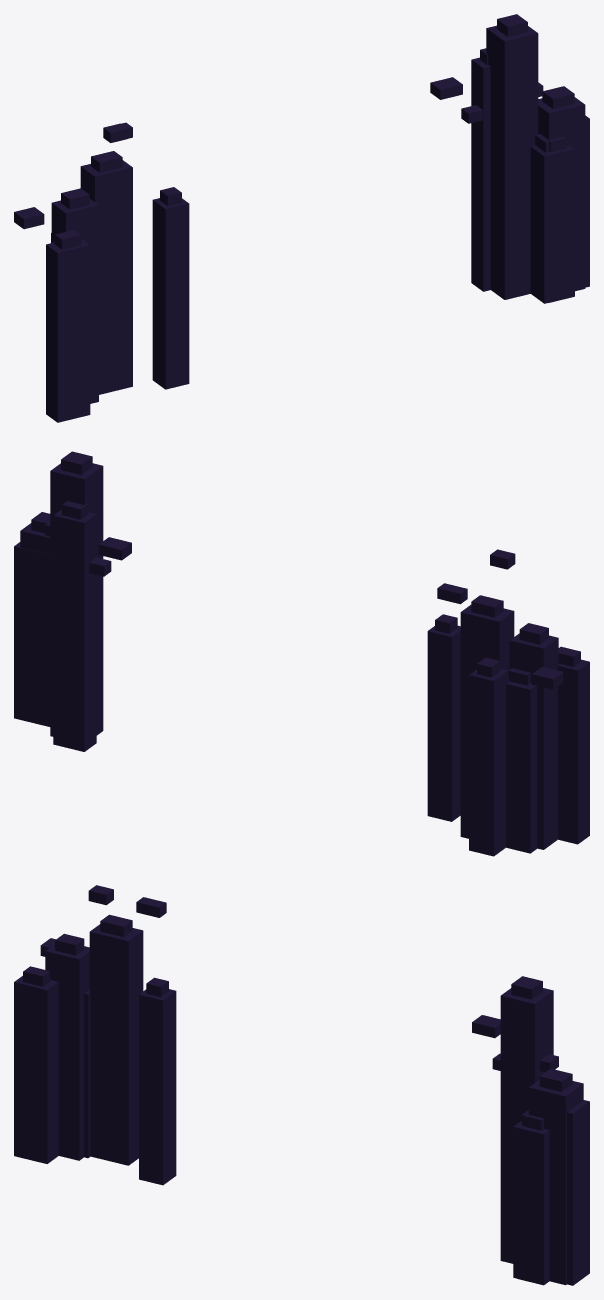
Rendered from FarCity_City.fbx.
3 renders of one model, top to bottom at view 1: azimuth 30°, elevation 25°; view 2: azimuth 150°, elevation 25°; view 3: azimuth 330°, elevation 25°, orthographic. The views are drawn at different scales.
Visible parts, largest first — view 1: FarTowerCap-1_0.001; view 2: FarTowerCap-1_0.001; view 3: FarTowerCap-1_0.001.
Boxes of the visible parts, left/top/right/bottom form: FarTowerCap-1_0.001: left=14, top=14, right=589, bottom=422; FarTowerCap-1_0.001: left=14, top=451, right=589, bottom=856; FarTowerCap-1_0.001: left=14, top=885, right=589, bottom=1285.
Bounding box in the file's own units: 33648 × 15926 × 4759.
